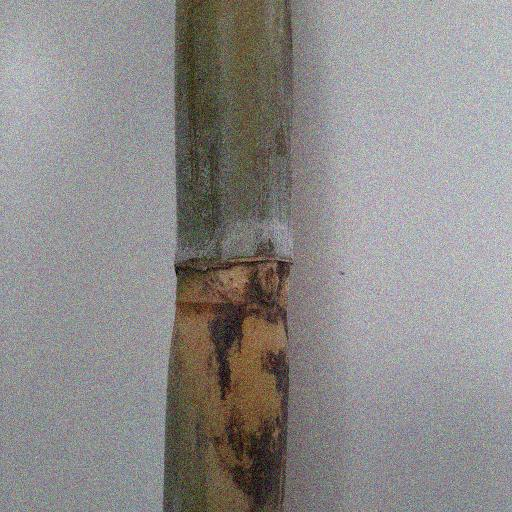Bud: (251, 264, 283, 307)
